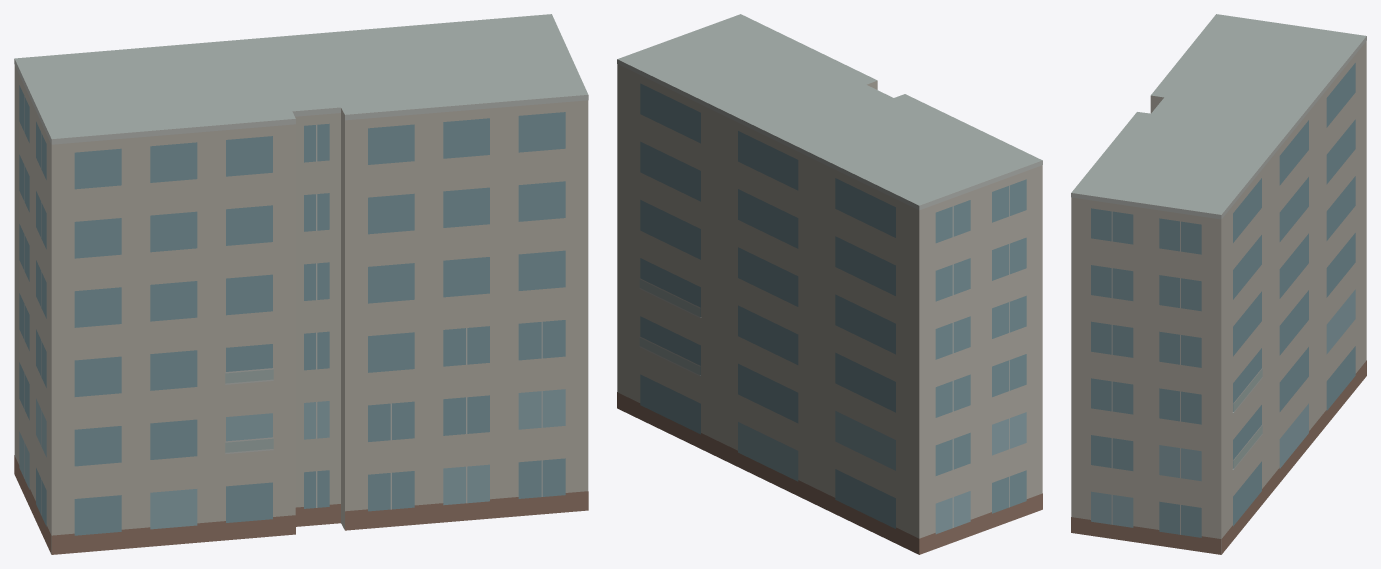
The model's file is survey-upis-32541062.glb.
3 views of the same model, side by side, from view 1: azimuth 30°, elevation 25°; view 2: azimuth 150°, elevation 25°; view 3: azimuth 270°, elevation 25° (orthographic). The views are drawn at different scales.
Visible parts, largest first — view 1: survey-upis-32541062.tmp; view 2: survey-upis-32541062.tmp; view 3: survey-upis-32541062.tmp.
Part boxes in pixels (bbox=[...]): survey-upis-32541062.tmp: bbox=[14, 14, 588, 554]; survey-upis-32541062.tmp: bbox=[617, 14, 1042, 554]; survey-upis-32541062.tmp: bbox=[1071, 14, 1366, 554].
Size of the model in its own units: 23.21 by 18.3 by 14.43.
